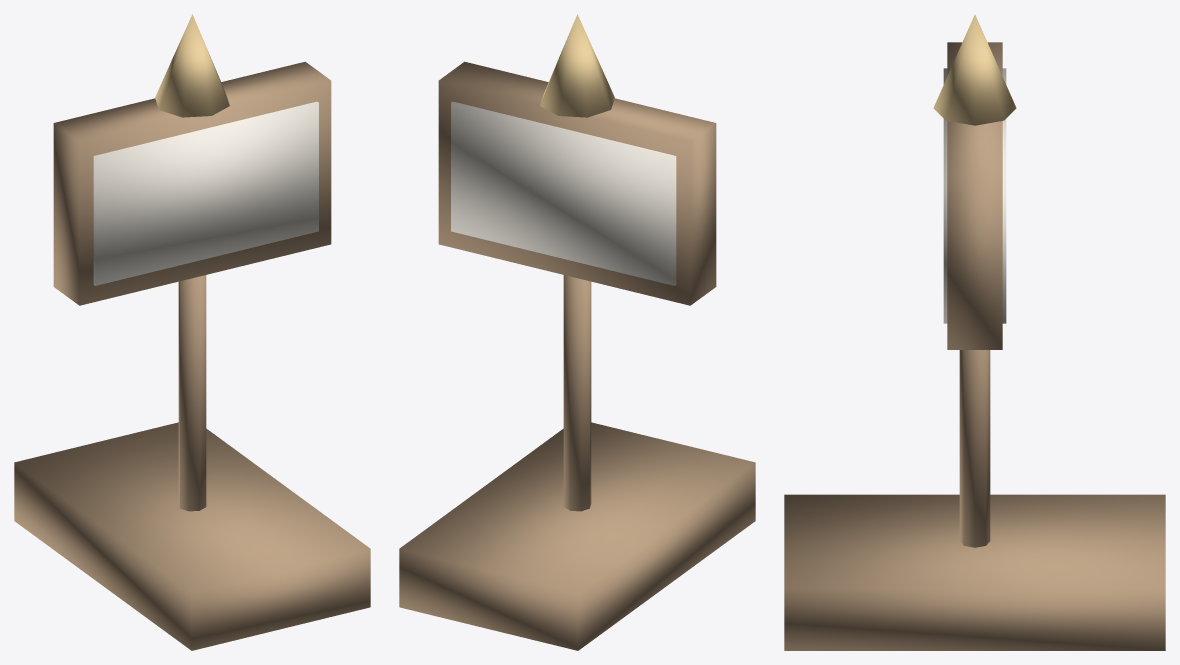
The model's file is heritage_museum_sign.glb.
3 renders of one model, left to right at view 1: azimuth 30°, elevation 25°; view 2: azimuth 150°, elevation 25°; view 3: azimuth 270°, elevation 25°, orthographic. The views are drawn at different scales.
Visible parts, largest first — view 1: sign_base, glass_window, display_board, support_column, golden_spire; view 2: sign_base, glass_window, display_board, support_column, golden_spire; view 3: sign_base, display_board, support_column, golden_spire, glass_window.
Part boxes in pixels (x1,y1,x2,y2): sign_base: (14, 422, 370, 650); glass_window: (93, 101, 318, 285); display_board: (53, 61, 331, 305); support_column: (178, 275, 206, 511); golden_spire: (155, 14, 229, 117); sign_base: (399, 422, 755, 650); glass_window: (451, 101, 676, 285); display_board: (438, 61, 716, 305); support_column: (563, 275, 591, 511); golden_spire: (540, 14, 614, 117); sign_base: (784, 494, 1165, 650); display_board: (947, 42, 1002, 349); support_column: (959, 350, 990, 547); golden_spire: (933, 14, 1016, 125); glass_window: (943, 68, 1006, 323).
Size of the model in its own units: 0.45 by 0.94 by 0.55.
